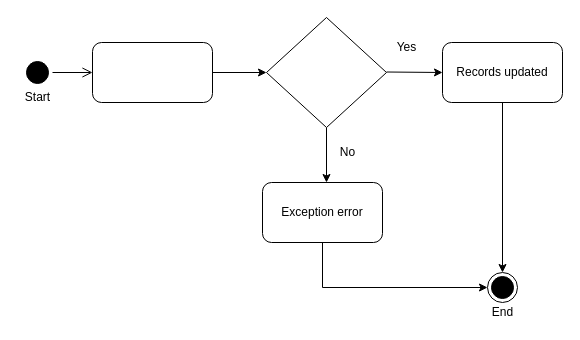
Image size: 580x340. Some labels were removed from this diagram. Each missing label, with the centre of its shape:
Does movie exists?: pixel 326 72
Update movie details: pixel 152 72
